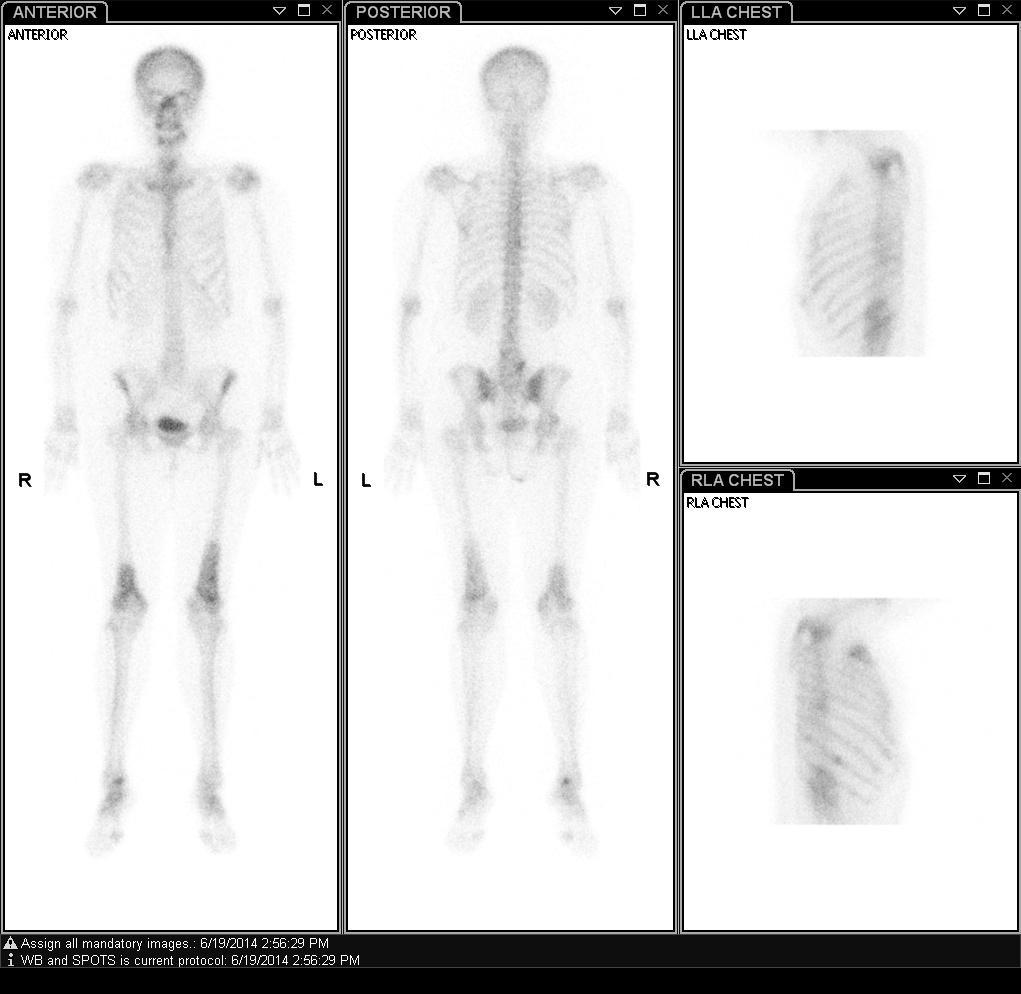person: (3, 24, 674, 931)
